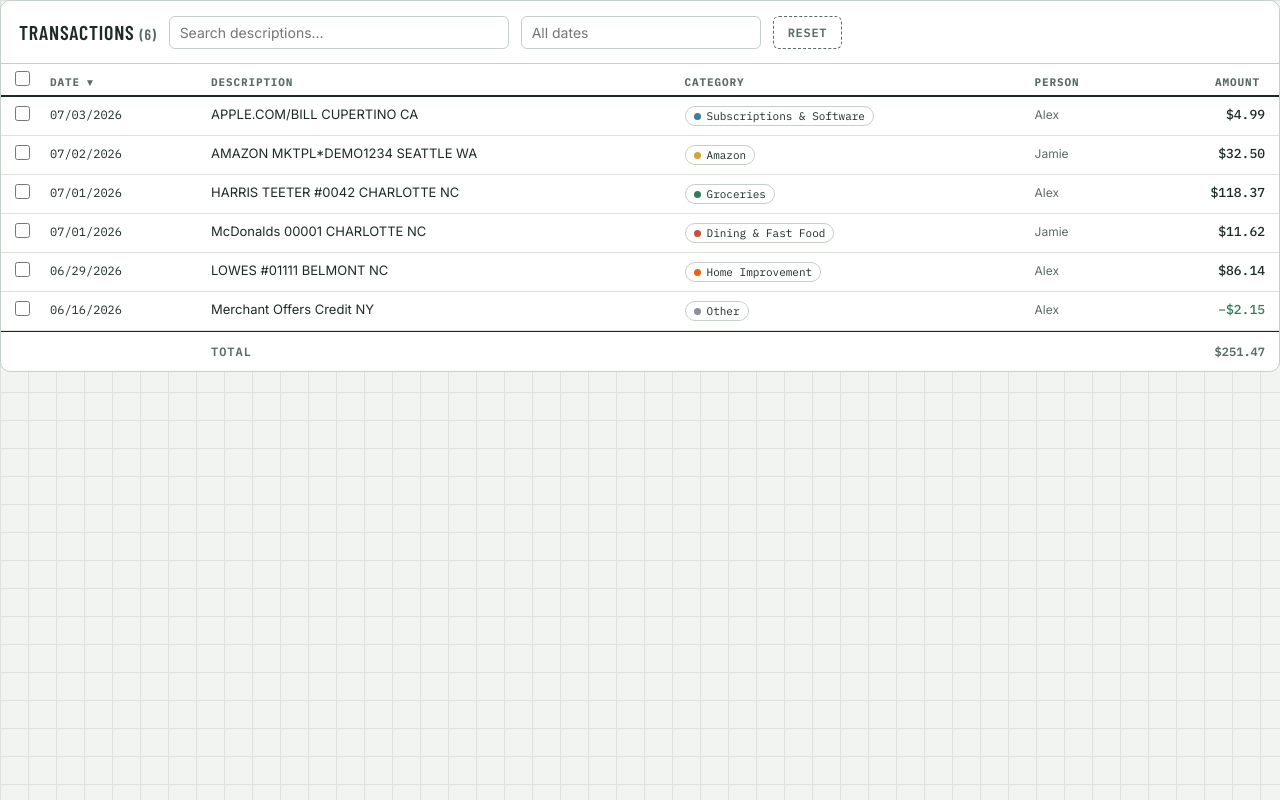
Scenario: TransactionTable › sorts from the column menu in the direction asked for
The width and height of the screenshot is (1280, 800).
Step 1. Click the button with aria-label "Amount column menu" → (1212,82), box [1160,75,1265,89]
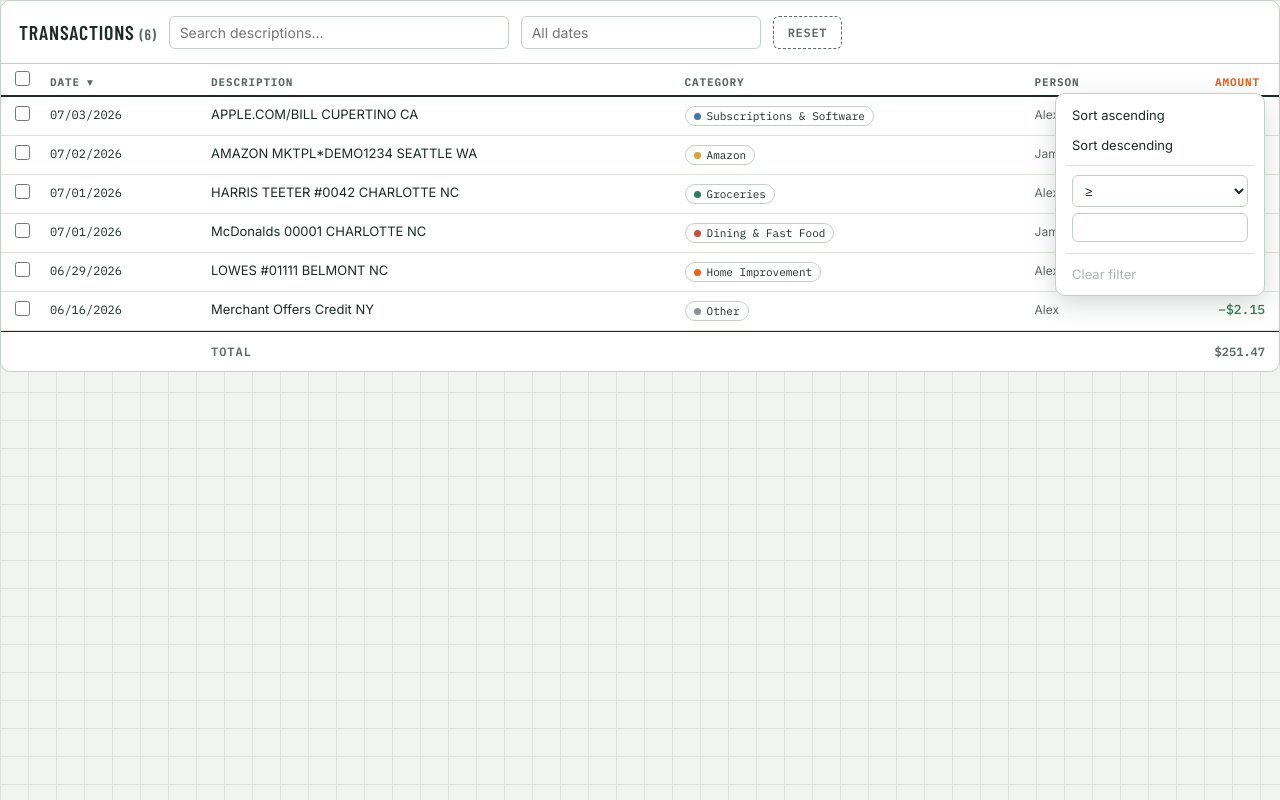
Step 2. Click the menu item "Sort descending" → (1122,145), box [1072,137,1173,153]
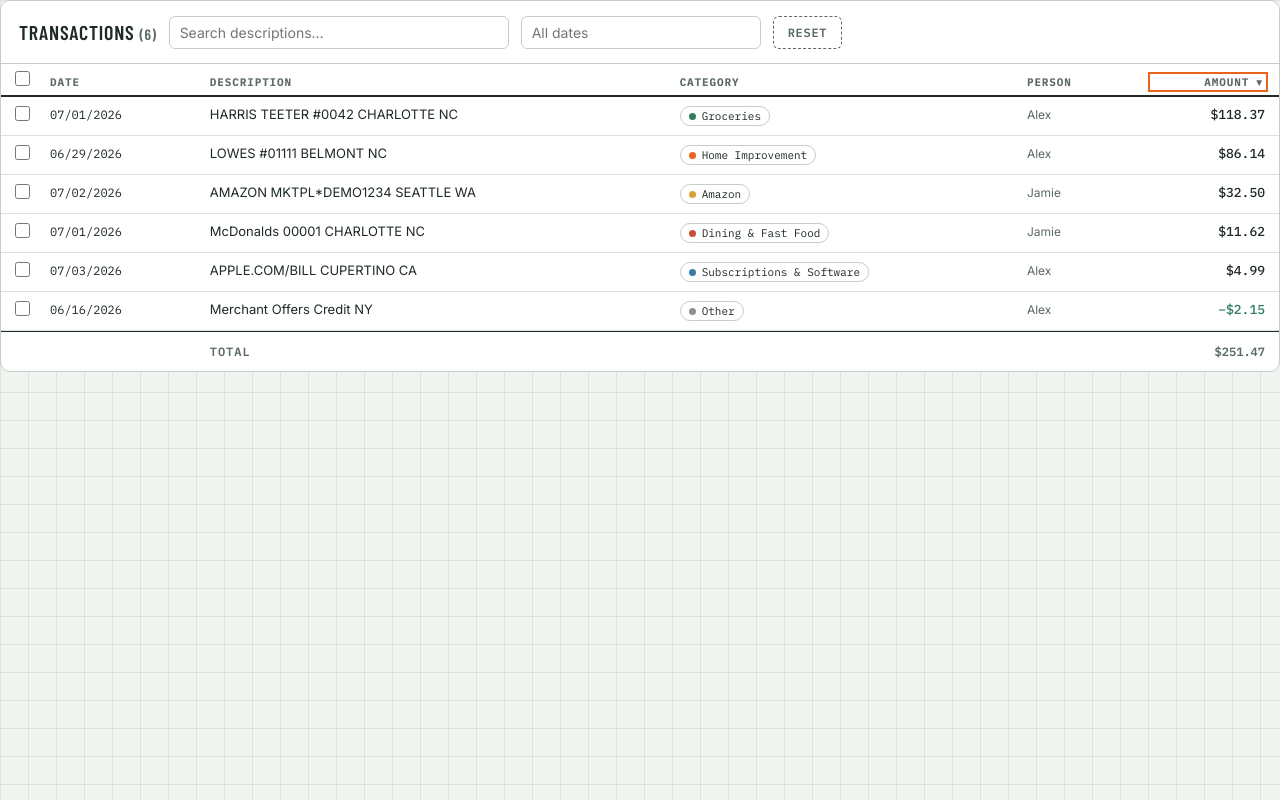
Check: the row that starts with "HARRIS TEETER #0042 CHARLOTTE NC" is shown, box [210,106,458,122]
Step 3. Click the button with aria-label "Amount column menu" → (1208,82), box [1151,75,1265,89]
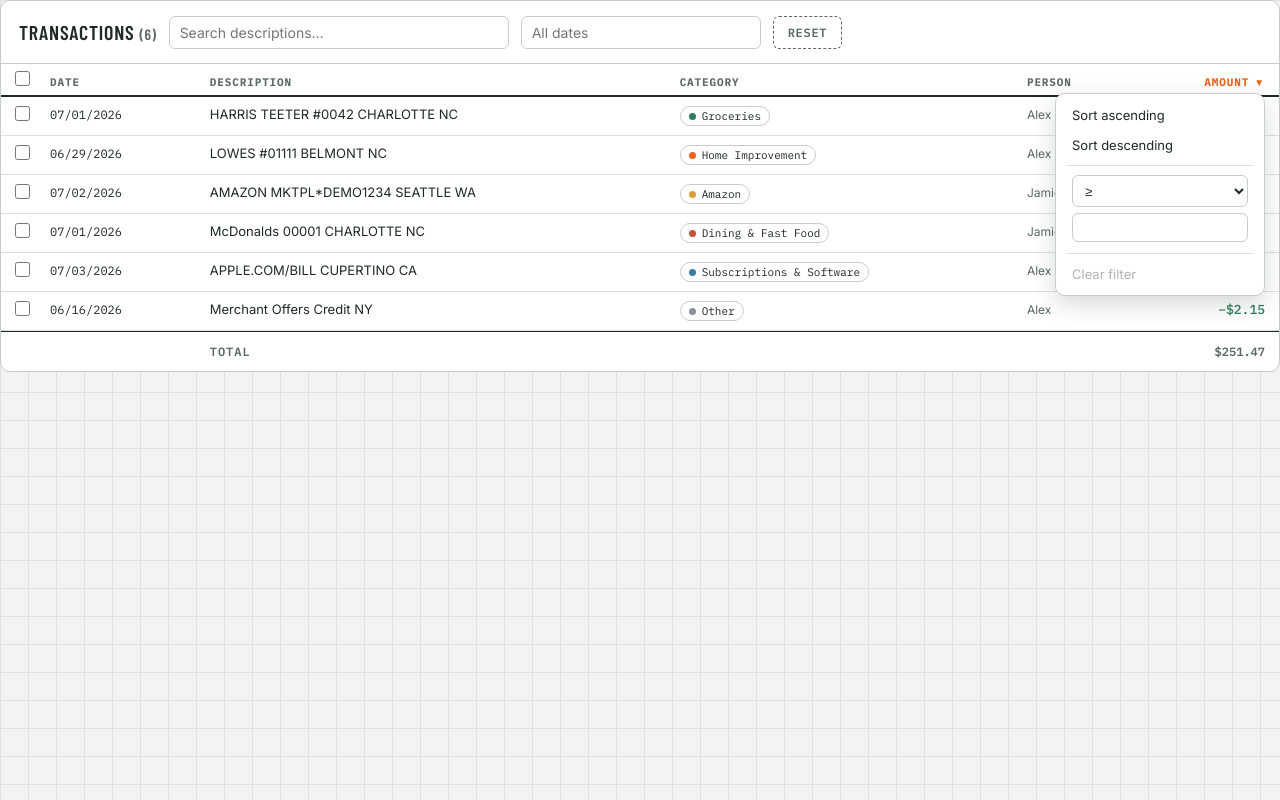
Step 4. Click the menu item "Sort ascending" → (1118,115), box [1072,107,1165,123]
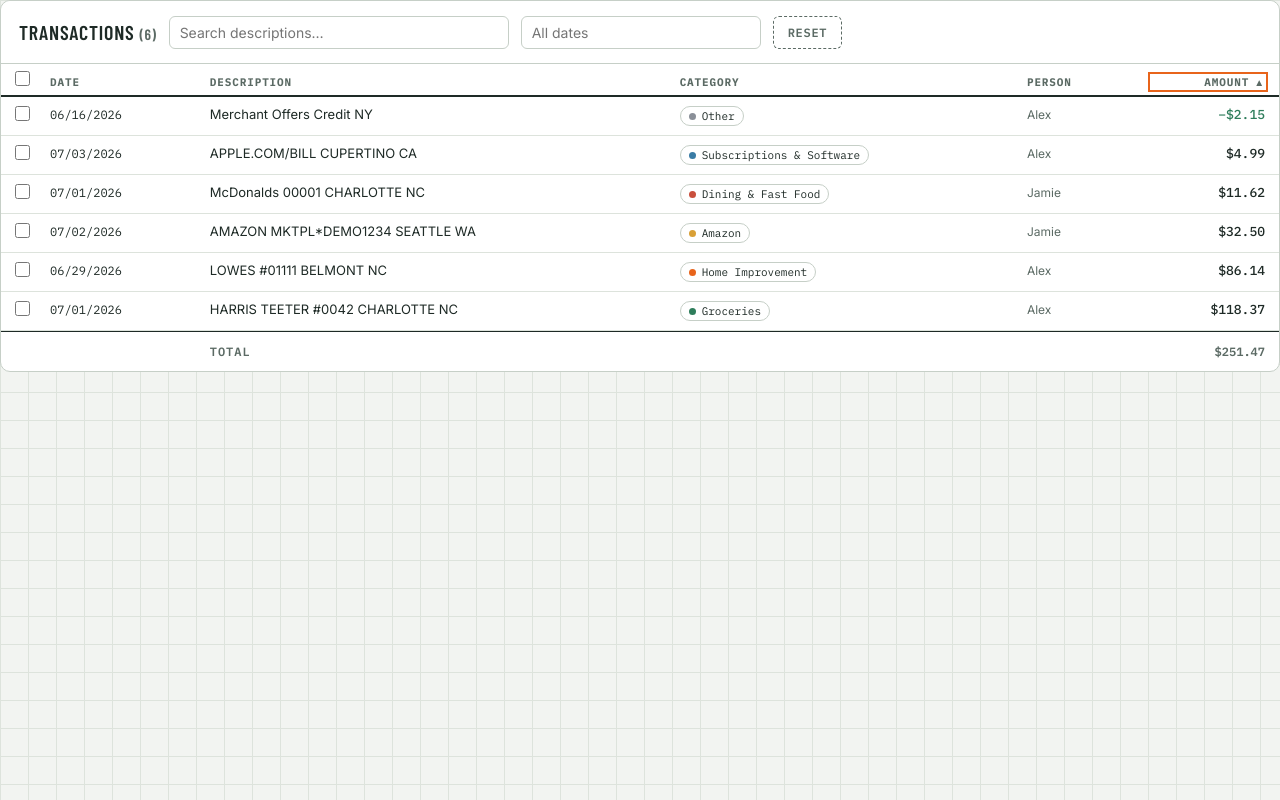
Check: the row "06/16/2026 Merchant Offers Credit NY Other Alex −$2.15" is shown, box [1,97,1279,136]
